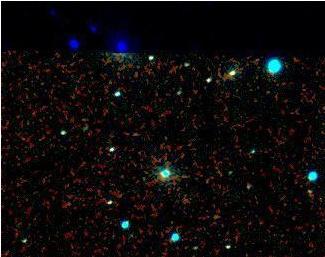star: (128, 167, 158, 197)
